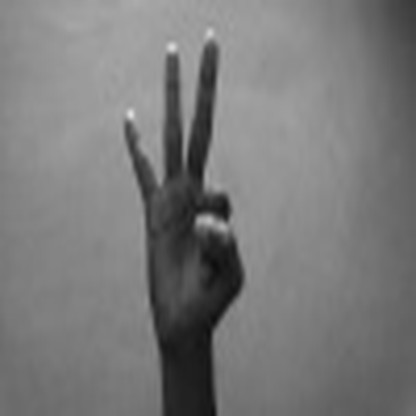f: (122, 28, 251, 328)
